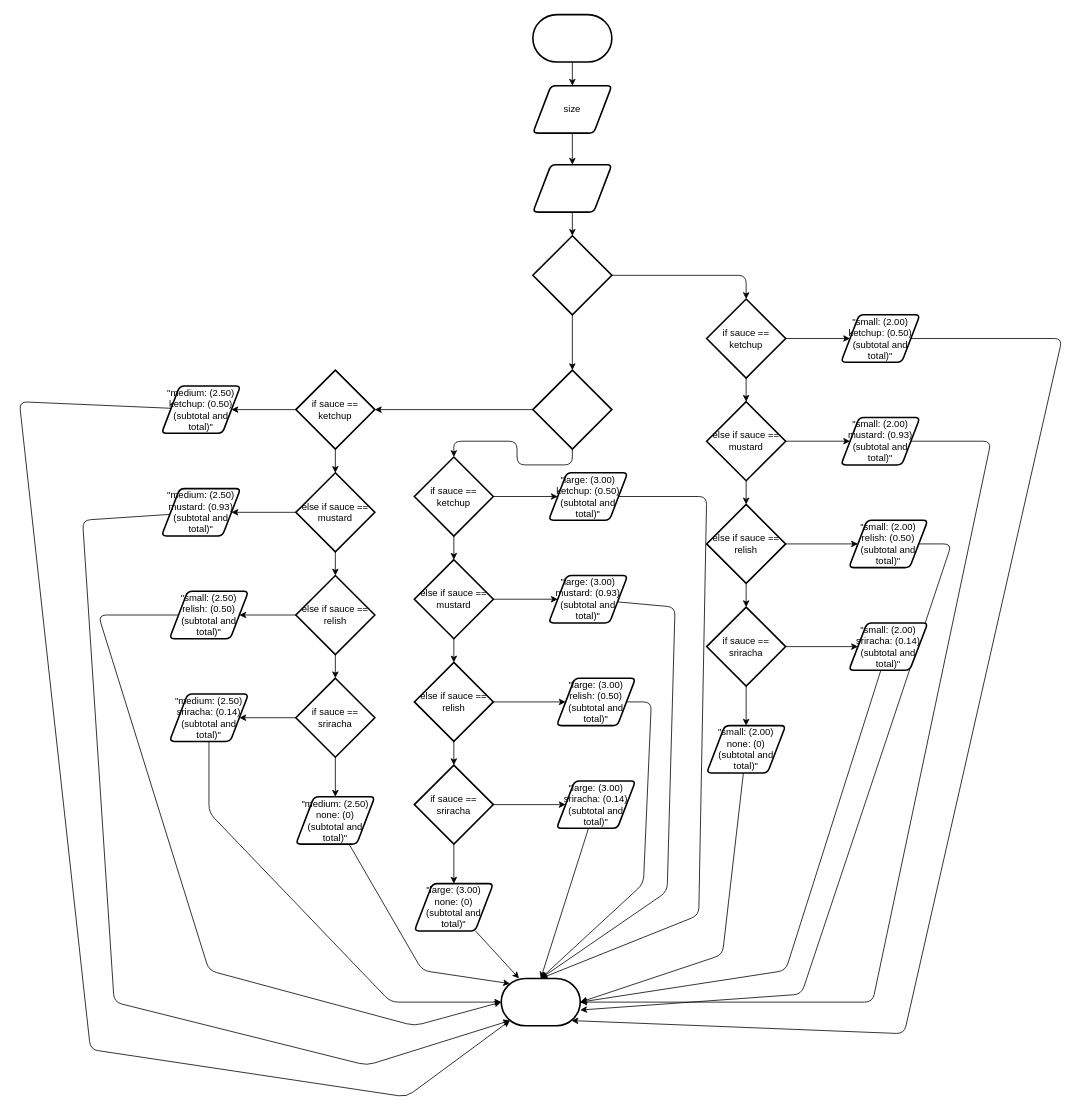
The diagram is 1082 pixels wide and 1117 high, and some of its shapes have lost their labels. The shapes that lost their labels are listed below. From the top down, each one's centre as x and y in pixels, then its label:
At [572,37]: "start".
At [572,188]: "toppings/sauce".
At [572,275]: "if size == small".
At [572,409]: "else if size == medium".
At [540,1001]: "stop".
